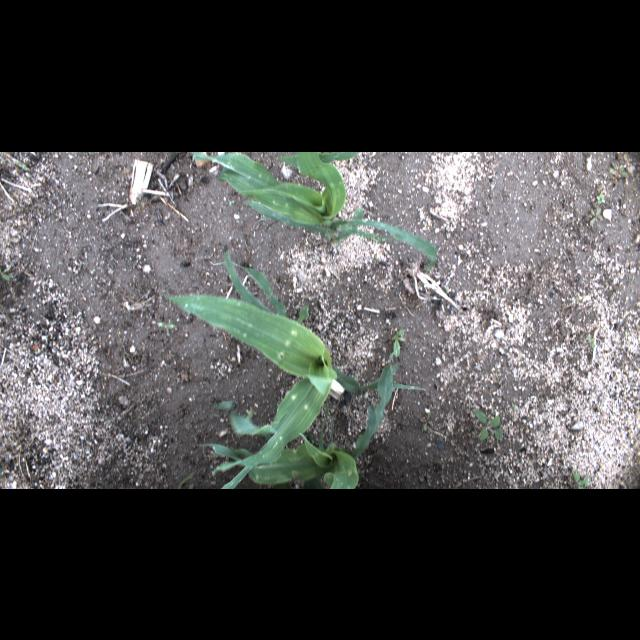crop: (160, 292, 428, 488), (192, 151, 438, 279), (204, 246, 308, 326), (252, 428, 358, 486)
weed: (474, 403, 504, 441), (570, 468, 594, 488), (391, 327, 405, 357), (590, 204, 604, 226), (0, 258, 10, 280)
